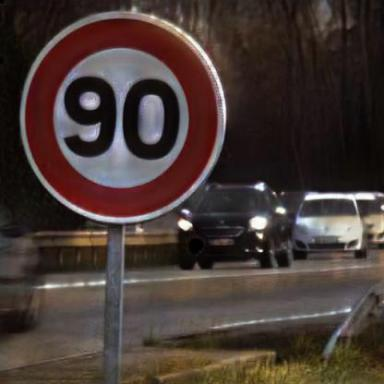Speed_limit_90: (25, 19, 213, 215)
